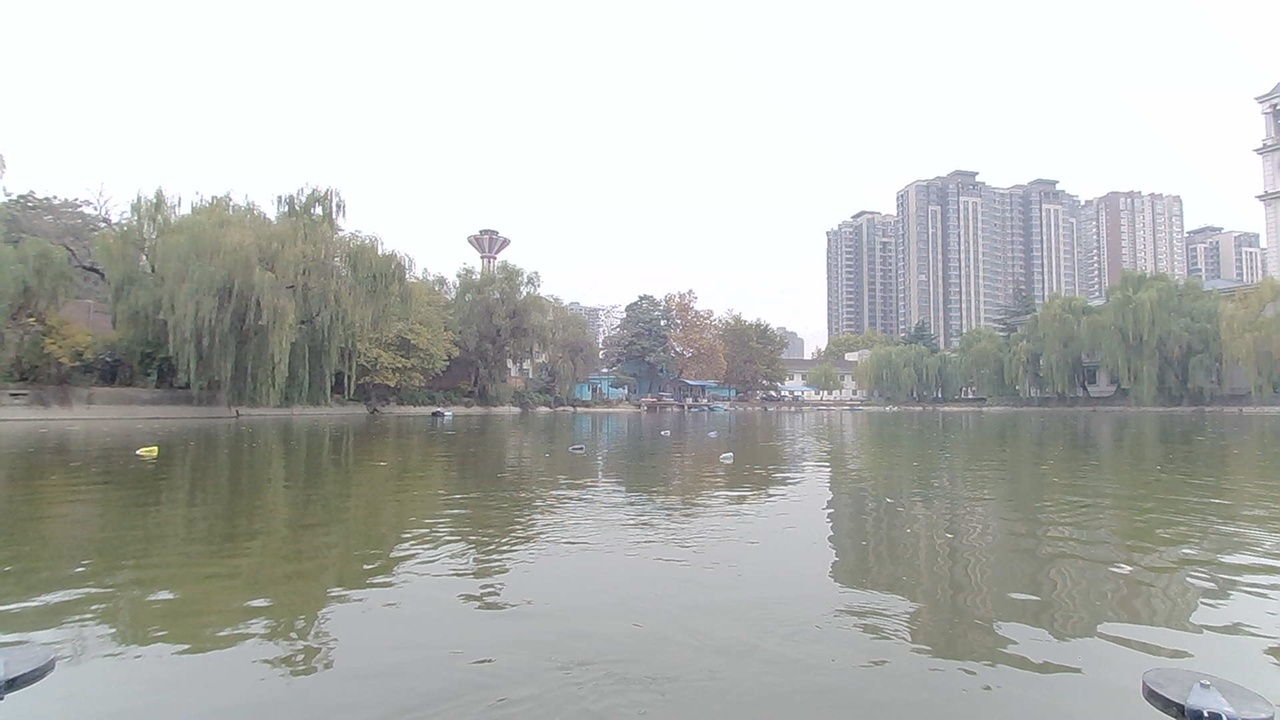bottle: (126, 433, 174, 465), (560, 440, 590, 462), (712, 446, 742, 467), (698, 416, 731, 433), (655, 420, 677, 439)
